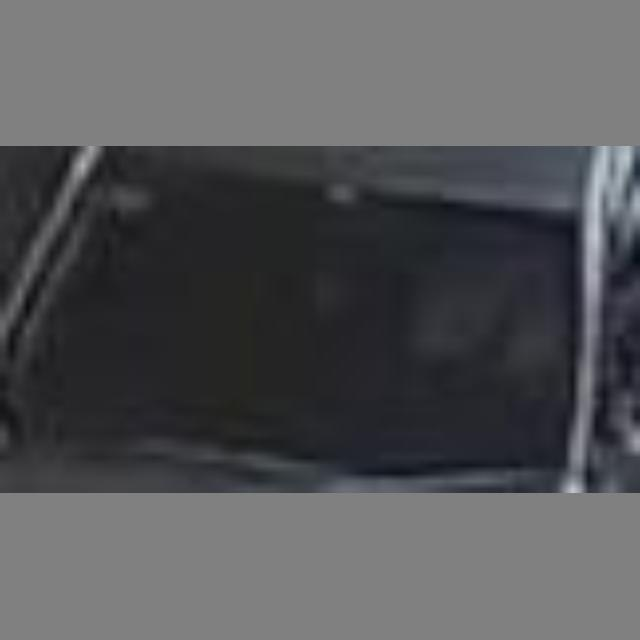pakai: (419, 241, 569, 399)
